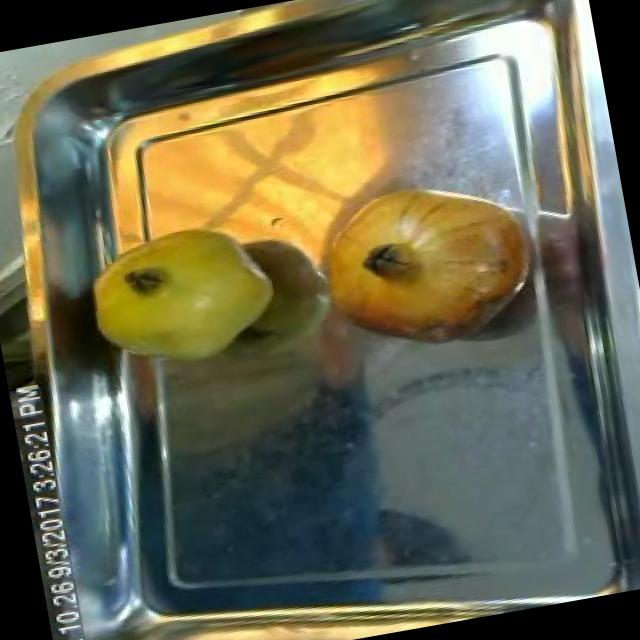fruit: (300, 156, 556, 369), (72, 205, 296, 390)
